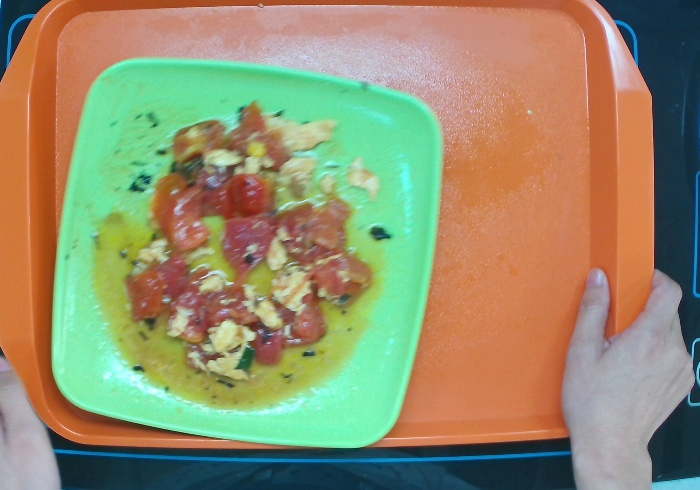ZNLD-Lv_Fang_Pan: (51, 52, 446, 450)
